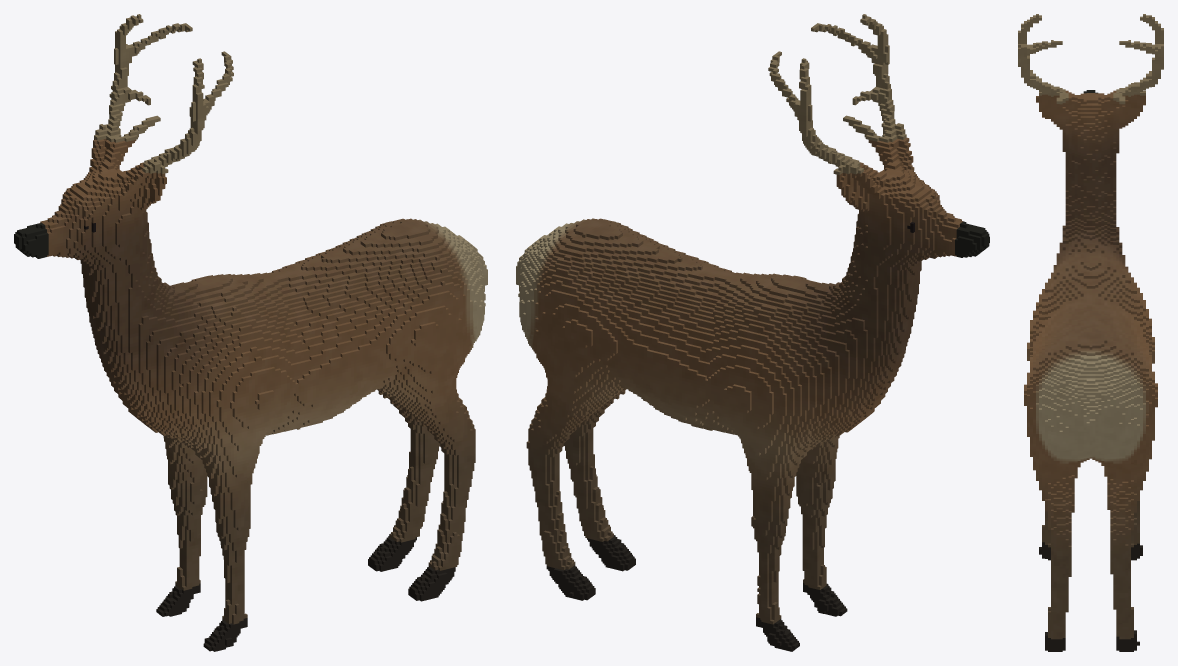
The model's file is colored-voxels.glb.
The picture shows the model from 3 angles, left to right: view 1: azimuth 30°, elevation 25°; view 2: azimuth 150°, elevation 25°; view 3: azimuth 270°, elevation 25°; orthographic projection. The views are drawn at different scales.
Visible parts, largest first — view 1: geometry_0; view 2: geometry_0; view 3: geometry_0.
Boxes of the visible parts, box(x1,y1,x2,y2) form: geometry_0: box(14, 14, 487, 651); geometry_0: box(516, 14, 989, 651); geometry_0: box(1018, 14, 1163, 651).
Size of the model in its own units: 2.01 by 2.46 by 0.6125.
